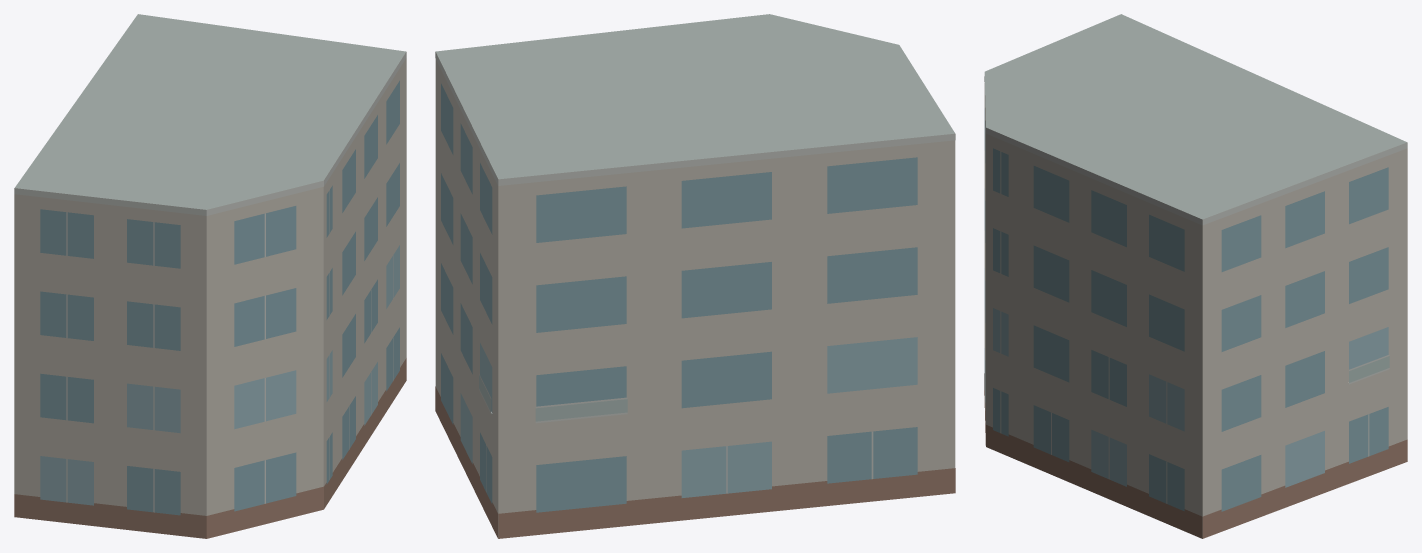
Rendered from survey-upis-32834899.glb.
The picture shows the model from 3 angles, left to right: view 1: azimuth 30°, elevation 25°; view 2: azimuth 150°, elevation 25°; view 3: azimuth 270°, elevation 25°; orthographic projection. The views are drawn at different scales.
Parts seen in each view (by area): view 1: survey-upis-32834899.tmp; view 2: survey-upis-32834899.tmp; view 3: survey-upis-32834899.tmp.
Part boxes in pixels (bbox=[...]): survey-upis-32834899.tmp: bbox=[14, 14, 406, 538]; survey-upis-32834899.tmp: bbox=[435, 14, 955, 538]; survey-upis-32834899.tmp: bbox=[984, 14, 1407, 538].
Size of the model in its own units: 18.09 by 13.1 by 15.73.
